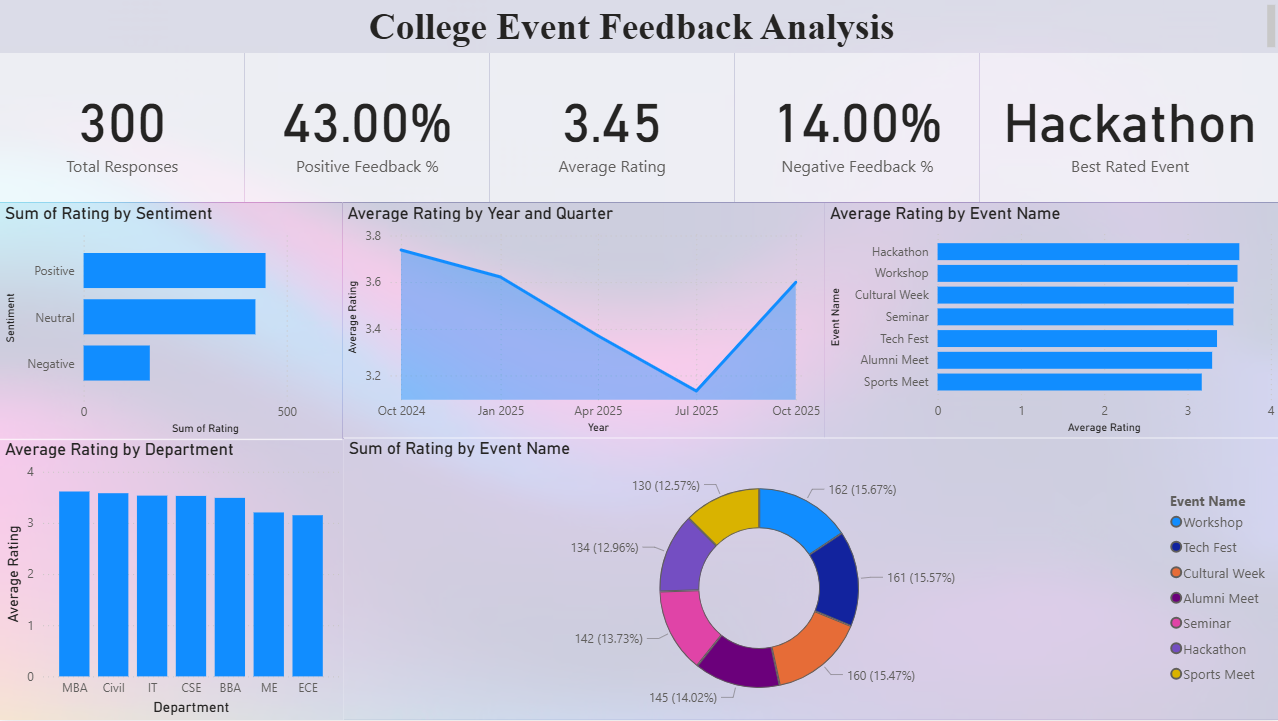

The dashboard page shown, as its layout file describes it:
{"tool":"powerbi","page":{"name":"Page 1","canvas":[1280,720],"ordinal":0},"visuals":[{"type":"textbox","box":[0,0,1280.3,52.8],"z":0},{"type":"card","fields":{"Values":["College_Event_Feedback_Data.Total Responses"]},"box":[0,52.8,245,149.6],"z":1},{"type":"card","fields":{"Values":["College_Event_Feedback_Data.Average Rating"]},"box":[489.8,52.8,244.9,149.6],"z":2},{"type":"card","fields":{"Values":["College_Event_Feedback_Data.Positive Feedback %"]},"box":[244.9,52.8,244.9,149.6],"z":3},{"type":"card","fields":{"Values":["College_Event_Feedback_Data.Best Rated Event"]},"box":[979.7,52.8,300.6,149.6],"z":4},{"type":"card","fields":{"Values":["College_Event_Feedback_Data.Negative Feedback %"]},"box":[734.7,52.8,244.9,149.6],"z":5},{"type":"clusteredBarChart","fields":{"Category":["College_Event_Feedback_Data.Sentiment"],"Y":["Sum(College_Event_Feedback_Data.Rating)"]},"box":[0,202.5,342.5,237.5],"z":6},{"type":"donutChart","fields":{"Category":["College_Event_Feedback_Data.Event Name"],"Y":["Sum(College_Event_Feedback_Data.Rating)"]},"box":[343.8,437.5,936.2,282.5],"z":7},{"type":"clusteredColumnChart","fields":{"Category":["College_Event_Feedback_Data.Department"],"Y":["College_Event_Feedback_Data.Average Rating"]},"box":[0,439,344.4,281.6],"z":8},{"type":"clusteredBarChart","fields":{"Category":["College_Event_Feedback_Data.Event Name"],"Y":["College_Event_Feedback_Data.Average Rating"]},"box":[825.2,202.9,455,236.1],"z":9},{"type":"areaChart","fields":{"Category":["College_Event_Feedback_Data.Timestamp.Variation.Date Hierarchy.Year","College_Event_Feedback_Data.Timestamp.Variation.Date Hierarchy.Quarter"],"Y":["College_Event_Feedback_Data.Average Rating"]},"box":[342.5,202.5,482.5,236.2],"z":11}]}

Visuals, with their boxes in screenshot pixels (x1, y1, x2, y2), scaled from the page's 1280x720 canvas onto the 1278x721 screenshot:
textbox: <box>0,0,1277,53</box>
card - College_Event_Feedback_Data.Total Responses: <box>0,53,245,203</box>
card - College_Event_Feedback_Data.Average Rating: <box>489,53,734,203</box>
card - College_Event_Feedback_Data.Positive Feedback %: <box>245,53,489,203</box>
card - College_Event_Feedback_Data.Best Rated Event: <box>978,53,1277,203</box>
card - College_Event_Feedback_Data.Negative Feedback %: <box>734,53,978,203</box>
clusteredBarChart - College_Event_Feedback_Data.Sentiment x Sum(College_Event_Feedback_Data.Rating): <box>0,203,342,441</box>
donutChart - College_Event_Feedback_Data.Event Name x Sum(College_Event_Feedback_Data.Rating): <box>343,438,1277,720</box>
clusteredColumnChart - College_Event_Feedback_Data.Department x College_Event_Feedback_Data.Average Rating: <box>0,440,344,720</box>
clusteredBarChart - College_Event_Feedback_Data.Event Name x College_Event_Feedback_Data.Average Rating: <box>824,203,1277,440</box>
areaChart - College_Event_Feedback_Data.Timestamp.Variation.Date Hierarchy.Year x College_Event_Feedback_Data.Timestamp.Variation.Date Hierarchy.Quarter: <box>342,203,824,439</box>
